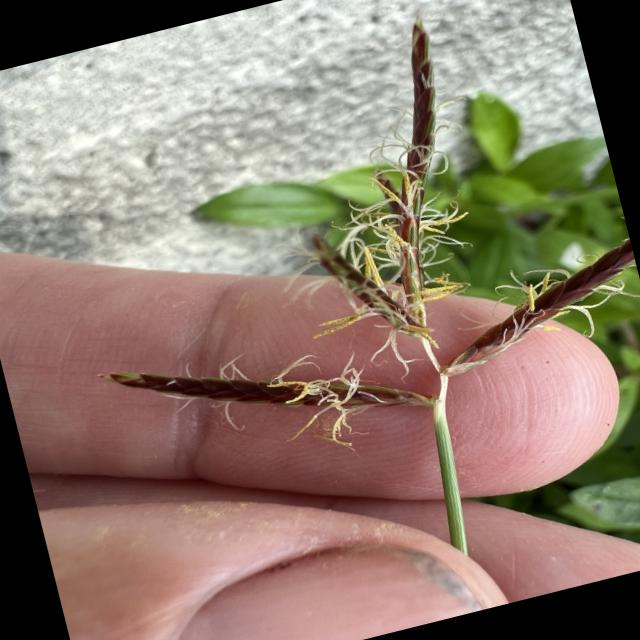cyperus: (23, 0, 640, 517)
